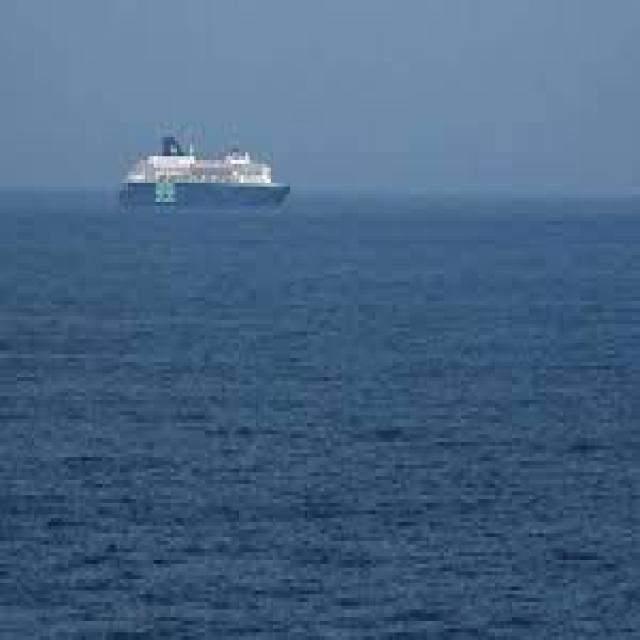passenger ship: (115, 117, 292, 215)
